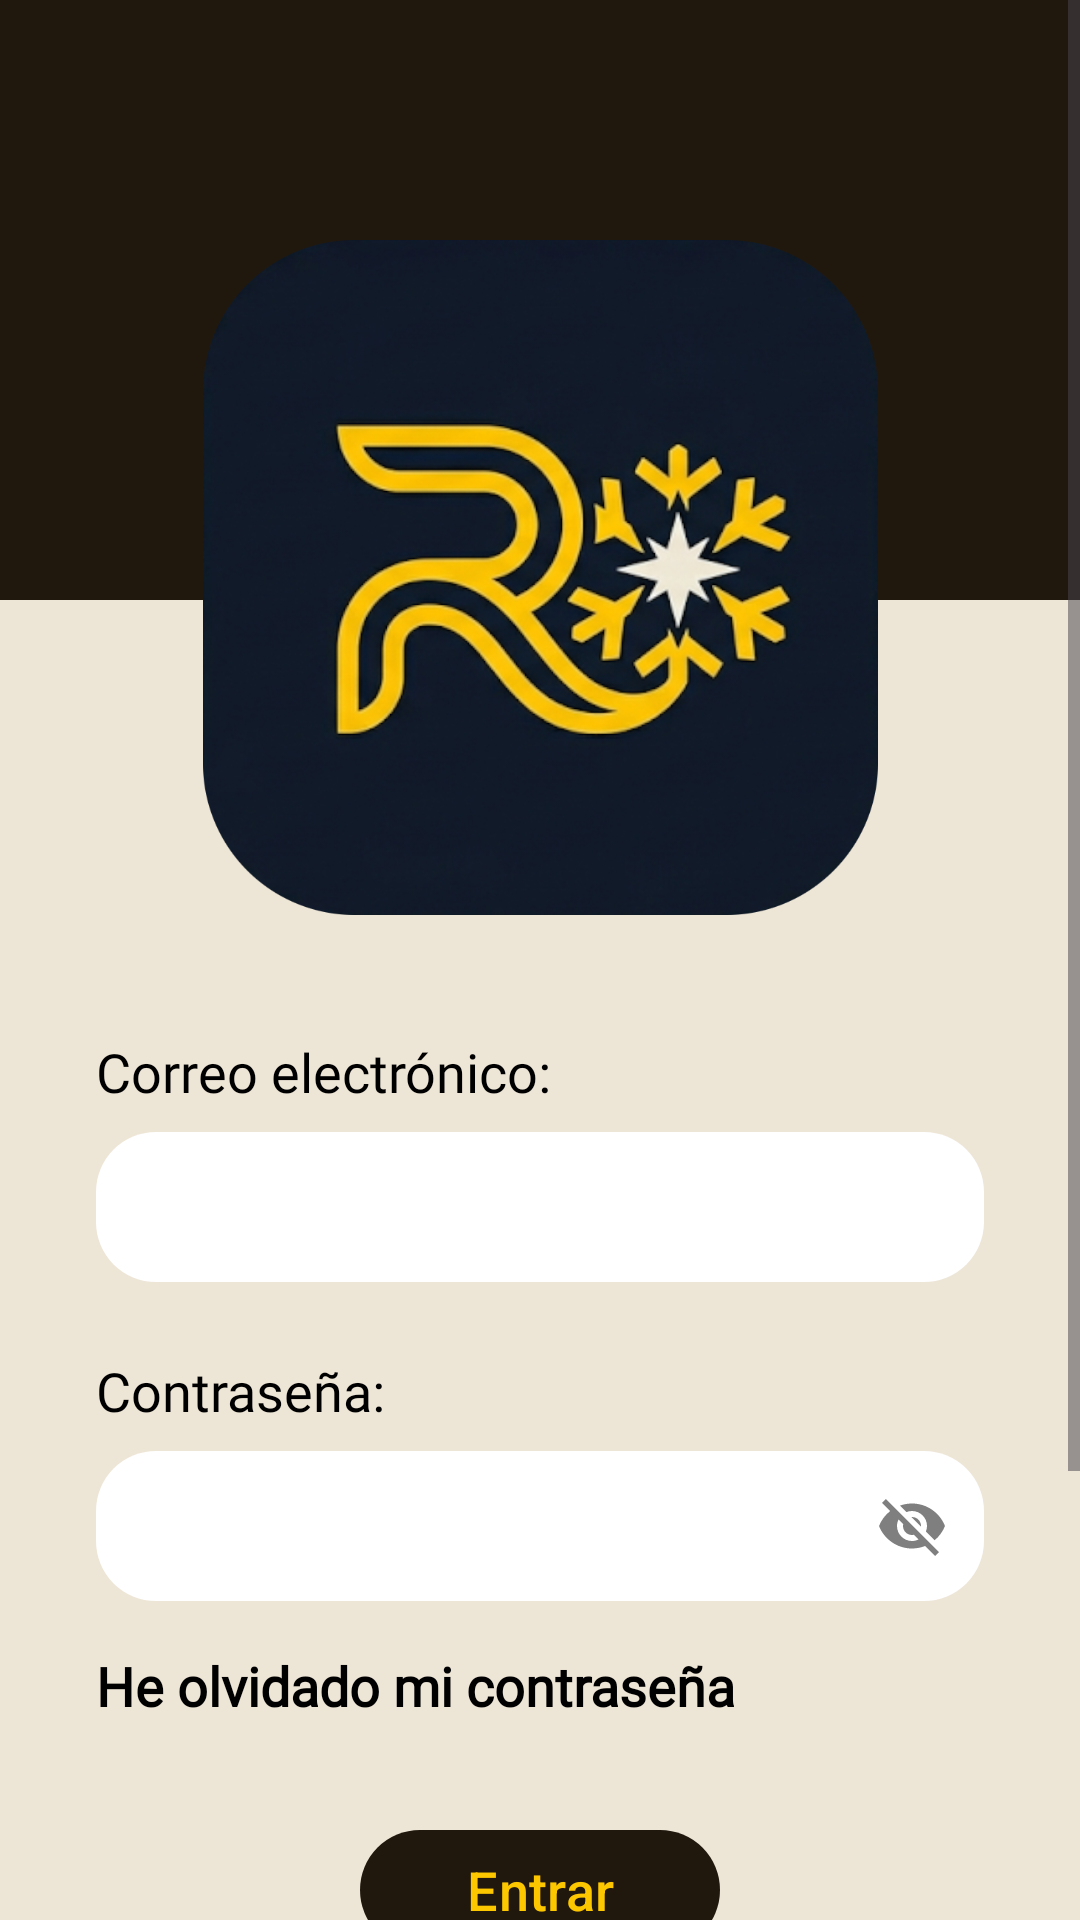

Icon bounding boxes for this 1080*1920 phone screenshot, format (x1, y1, x2, y2):
visibility off: (840, 1451, 984, 1601)
